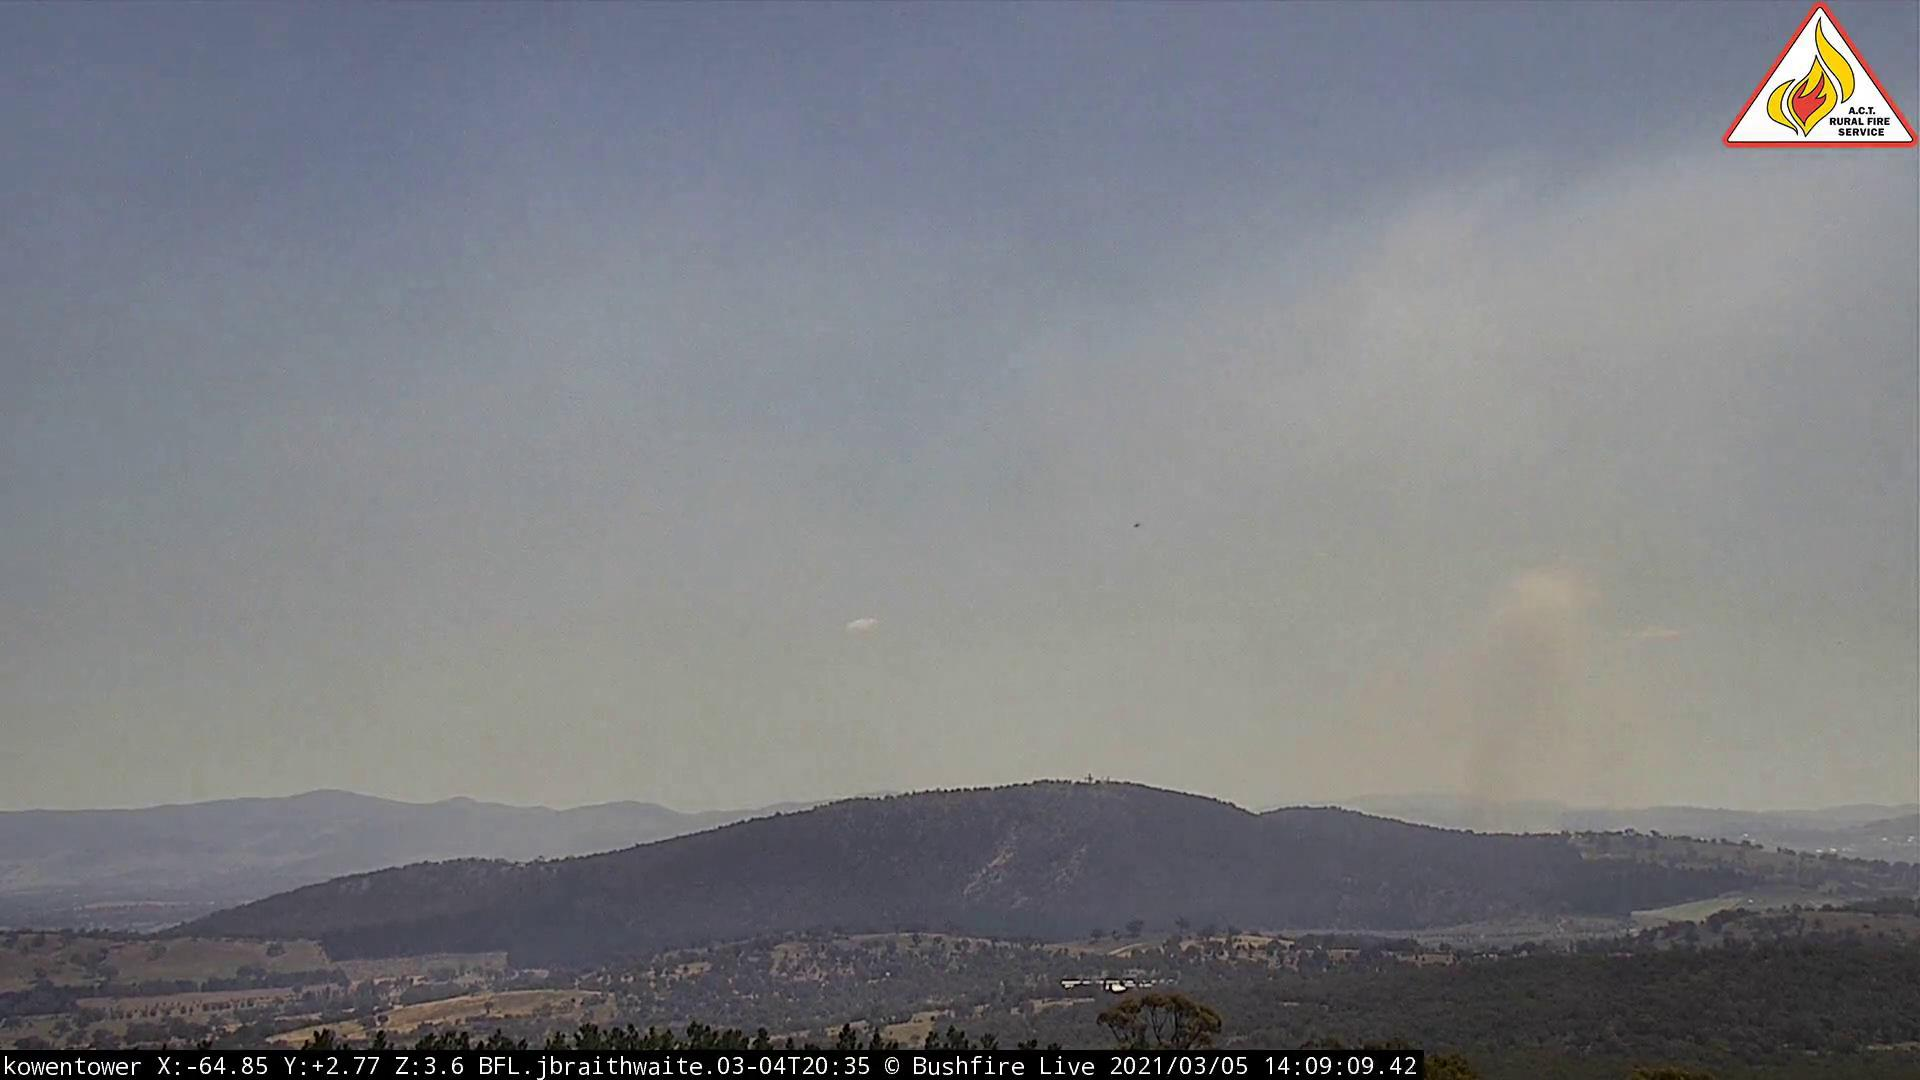Smoke: (1319, 564, 1689, 841)
